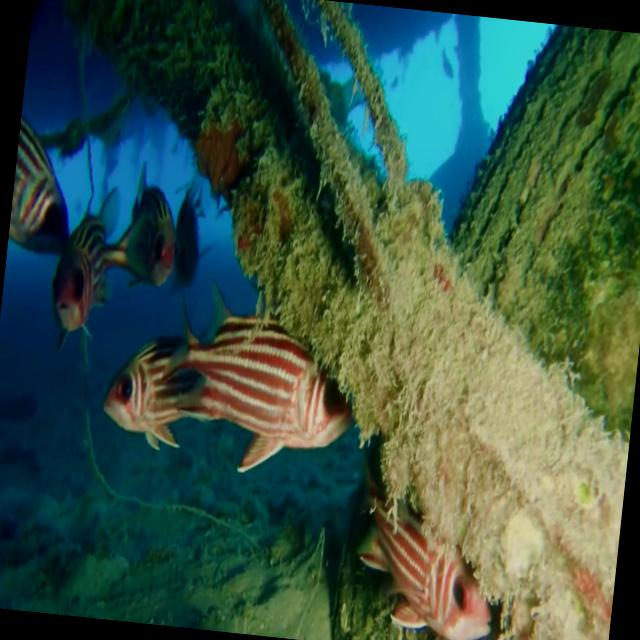Asker Baligi: (96, 269, 366, 484), (346, 486, 505, 640)
